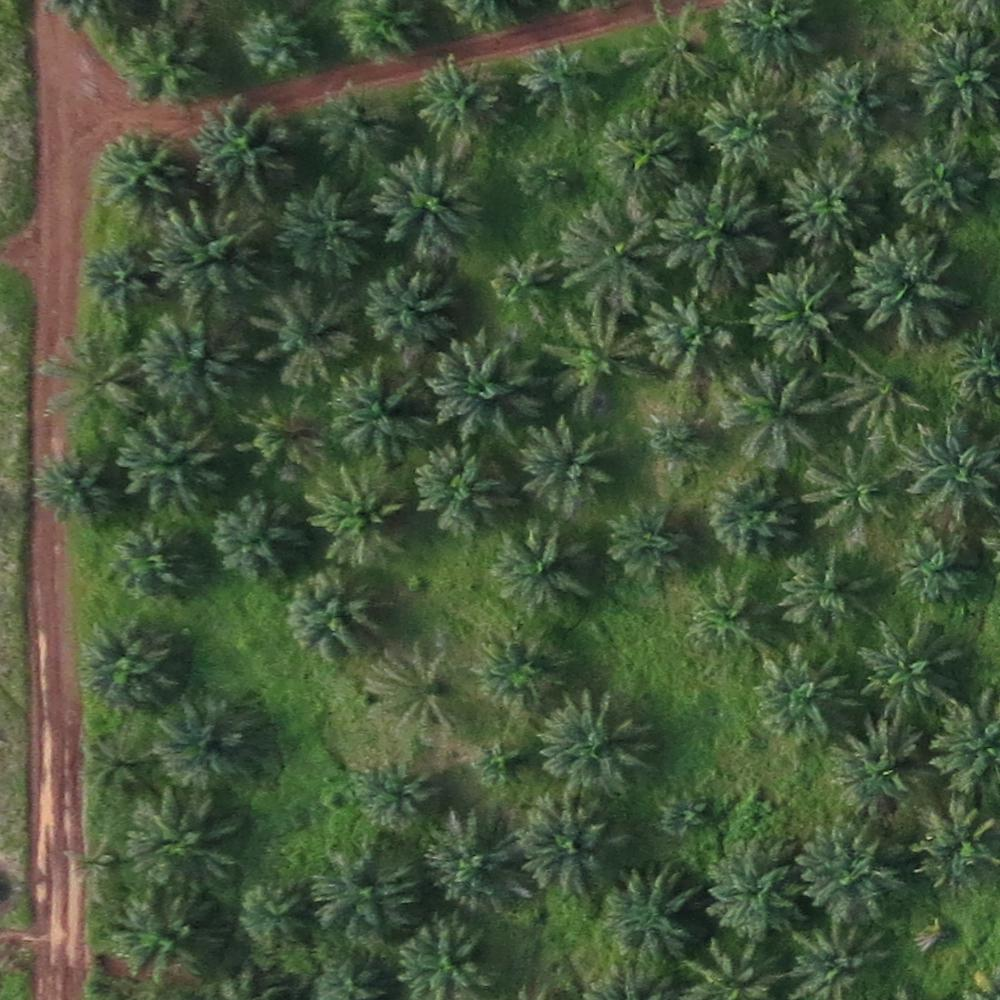Palm: (848, 229, 964, 341), (431, 335, 546, 442), (123, 788, 246, 885), (666, 182, 780, 285), (374, 150, 480, 260), (533, 694, 656, 788), (556, 206, 663, 312), (306, 467, 412, 569), (522, 790, 620, 900), (152, 207, 257, 309), (858, 615, 966, 713), (797, 821, 906, 918), (546, 311, 650, 410), (424, 810, 527, 909), (773, 160, 878, 257), (722, 366, 823, 466), (254, 289, 358, 386), (151, 695, 257, 789), (749, 648, 855, 741), (317, 844, 415, 943), (607, 865, 706, 963), (804, 449, 906, 543), (110, 882, 216, 972), (751, 266, 849, 362), (188, 101, 288, 195), (703, 847, 805, 939), (124, 410, 222, 505), (415, 445, 512, 540), (78, 619, 180, 709), (329, 364, 427, 455), (701, 84, 798, 175), (140, 317, 242, 402), (906, 29, 1000, 121), (497, 528, 592, 618), (362, 260, 455, 351), (287, 569, 381, 658), (519, 423, 610, 514), (277, 186, 370, 275), (802, 57, 897, 144), (231, 399, 325, 485), (832, 719, 927, 804), (705, 475, 797, 562), (397, 917, 497, 997), (92, 131, 188, 214), (596, 109, 688, 195), (213, 492, 304, 577), (473, 630, 566, 713), (642, 291, 734, 373), (907, 804, 994, 889), (416, 61, 504, 145), (890, 139, 985, 216), (119, 21, 206, 104), (515, 41, 603, 122), (780, 551, 872, 628), (350, 760, 440, 838), (605, 502, 690, 584), (899, 530, 980, 610), (799, 926, 890, 996), (689, 578, 766, 658), (33, 455, 114, 529), (111, 526, 192, 599), (314, 89, 394, 158), (84, 241, 154, 317), (236, 12, 314, 77), (241, 881, 310, 951), (79, 728, 151, 795)
